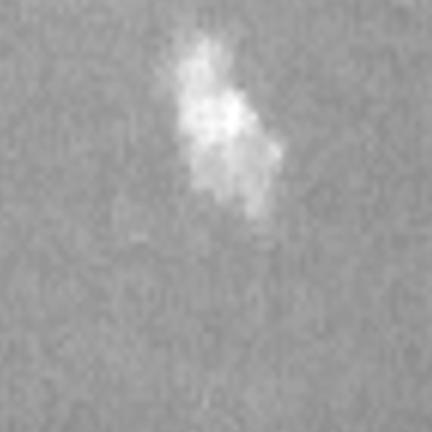flukeprints: (166, 31, 283, 219)
